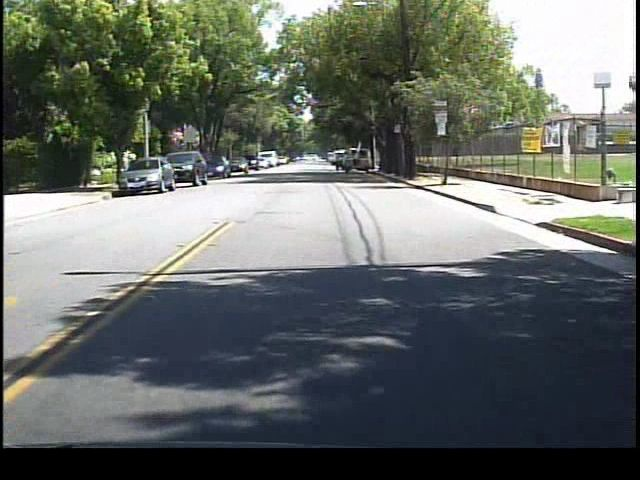person: (330, 147, 345, 172)
